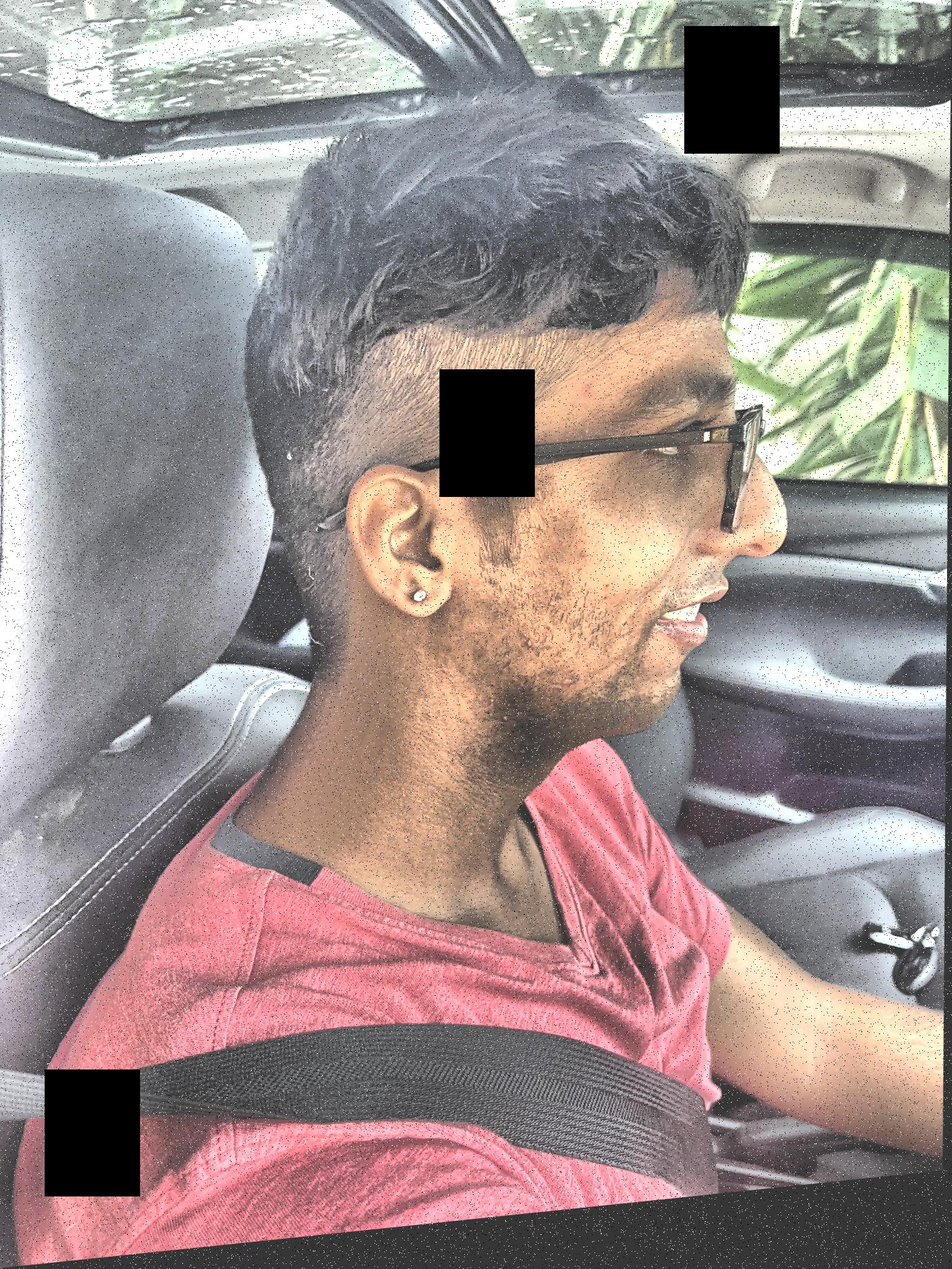seatbelt: (0, 819, 757, 1265)
